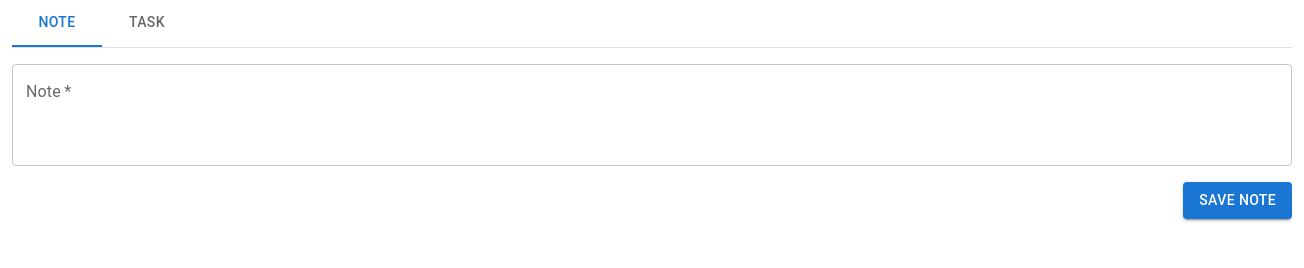
Test: NoteTaskForm › note validation › shows inline error when note body is empty on submit
Submit without entering any text
Click the button "Save Note" at (1238, 200), box [1183,182,1292,218]
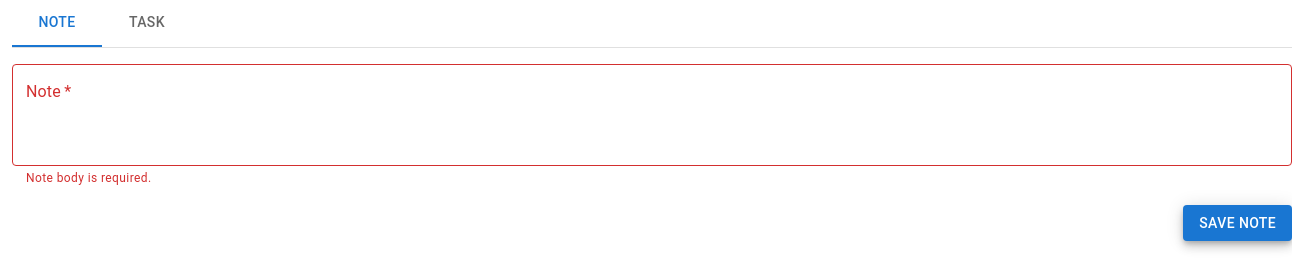
Result: the text "Note body is required." is shown at [26,171,152,185]
